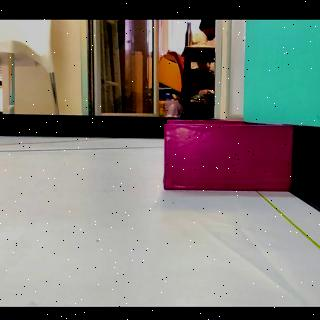xparking: (168, 126, 286, 190)
